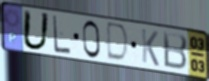0: (81, 19, 102, 60)
B: (162, 30, 189, 72)
D: (105, 21, 131, 65)
K: (140, 27, 160, 69)
L: (52, 13, 72, 55)
U: (21, 8, 52, 52)
